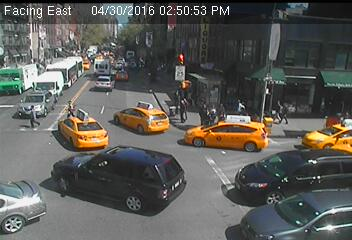neg: (146, 148, 164, 172), (254, 156, 270, 178), (195, 154, 211, 175), (323, 85, 339, 106), (29, 161, 44, 181), (88, 85, 102, 104), (160, 32, 174, 51), (73, 156, 87, 174), (88, 27, 101, 45), (192, 50, 205, 68), (124, 51, 137, 68), (59, 38, 71, 54), (249, 63, 261, 79), (282, 64, 293, 79), (111, 71, 119, 82), (174, 67, 181, 76)
pos: (170, 95, 193, 126), (230, 96, 251, 124), (209, 100, 228, 125), (268, 97, 286, 121), (194, 100, 212, 124), (203, 100, 221, 124), (276, 101, 294, 124), (23, 103, 40, 126), (66, 99, 77, 113)
